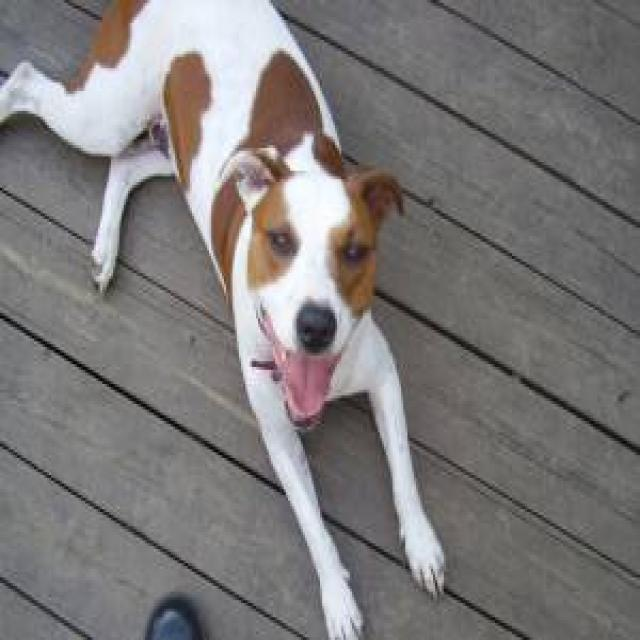dog-american_pit_bull_terrier: (2, 3, 454, 634)
